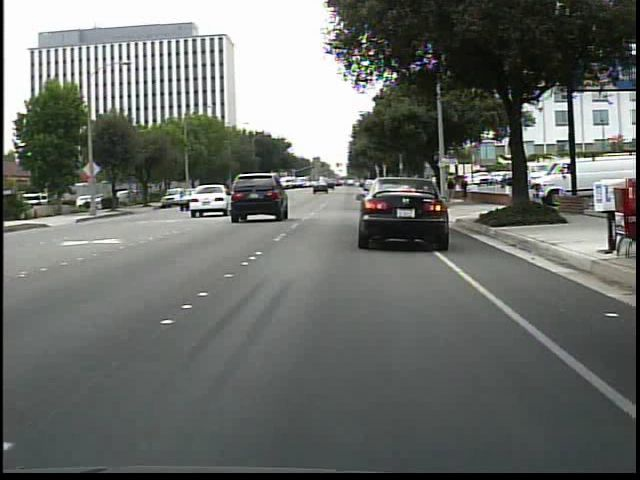person: (458, 175, 470, 205), (443, 177, 456, 202)
